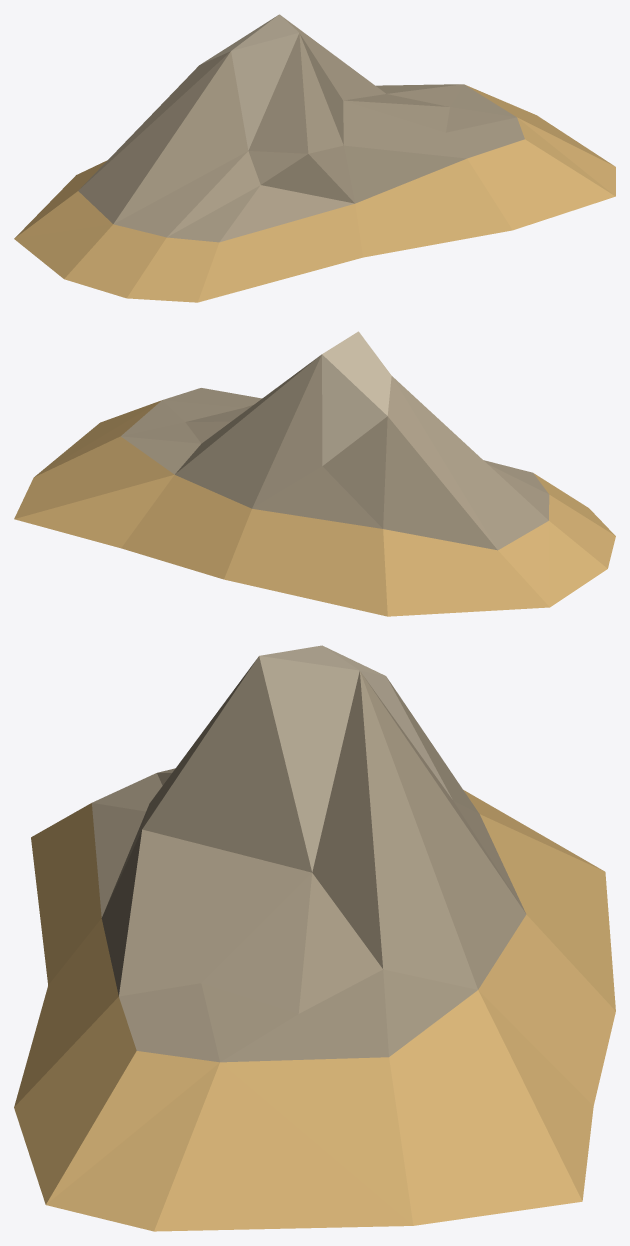
The model's file is TB_D_Env_MtC_B.FBX.
The picture shows the model from 3 angles, top to bottom: view 1: azimuth 30°, elevation 25°; view 2: azimuth 150°, elevation 25°; view 3: azimuth 270°, elevation 25°; orthographic projection. The views are drawn at different scales.
Parts seen in each view (by area): view 1: TB_D_Env_MtC_B; view 2: TB_D_Env_MtC_B; view 3: TB_D_Env_MtC_B.
Boxes of the visible parts, box(x1,y1,x2,y2) form: TB_D_Env_MtC_B: box(14, 14, 615, 302); TB_D_Env_MtC_B: box(14, 331, 615, 616); TB_D_Env_MtC_B: box(14, 645, 615, 1231).
Bounding box in the file's own units: 23.91 × 7.89 × 13.21.
